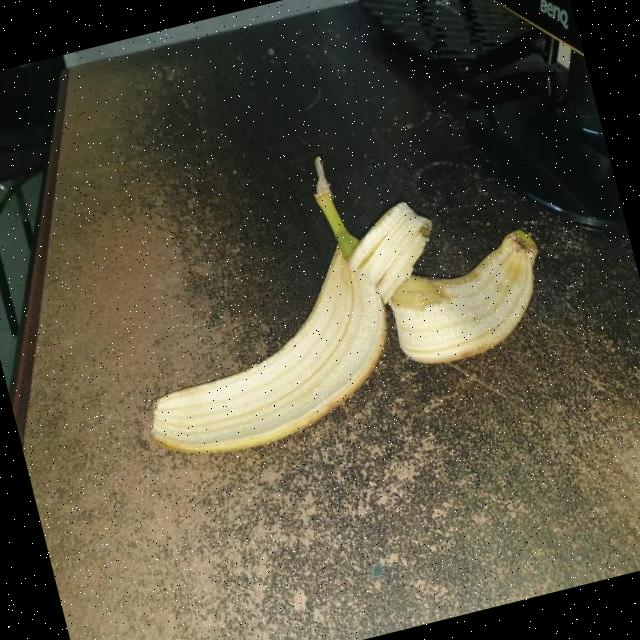banana-peel: (93, 132, 473, 471), (377, 224, 559, 374)
